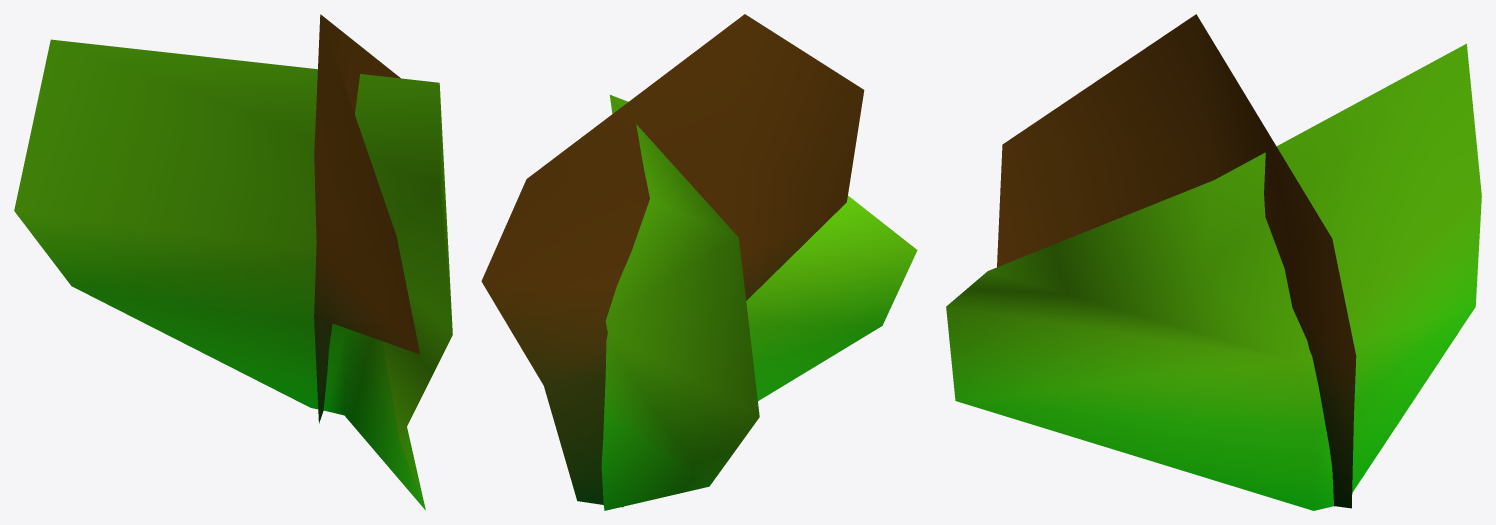
Rendered from Var1Hi17.fbx.
The picture shows the model from 3 angles, left to right: view 1: azimuth 30°, elevation 25°; view 2: azimuth 150°, elevation 25°; view 3: azimuth 270°, elevation 25°; orthographic projection.
Parts seen in each view (by area): view 1: bend1; view 2: bend1; view 3: bend1.
Part boxes in pixels (x1,y1,x2,y2): bend1: (14, 14, 452, 510); bend1: (481, 14, 917, 510); bend1: (946, 14, 1481, 510).
Size of the model in its own units: 1.04 by 1.35 by 1.42.
